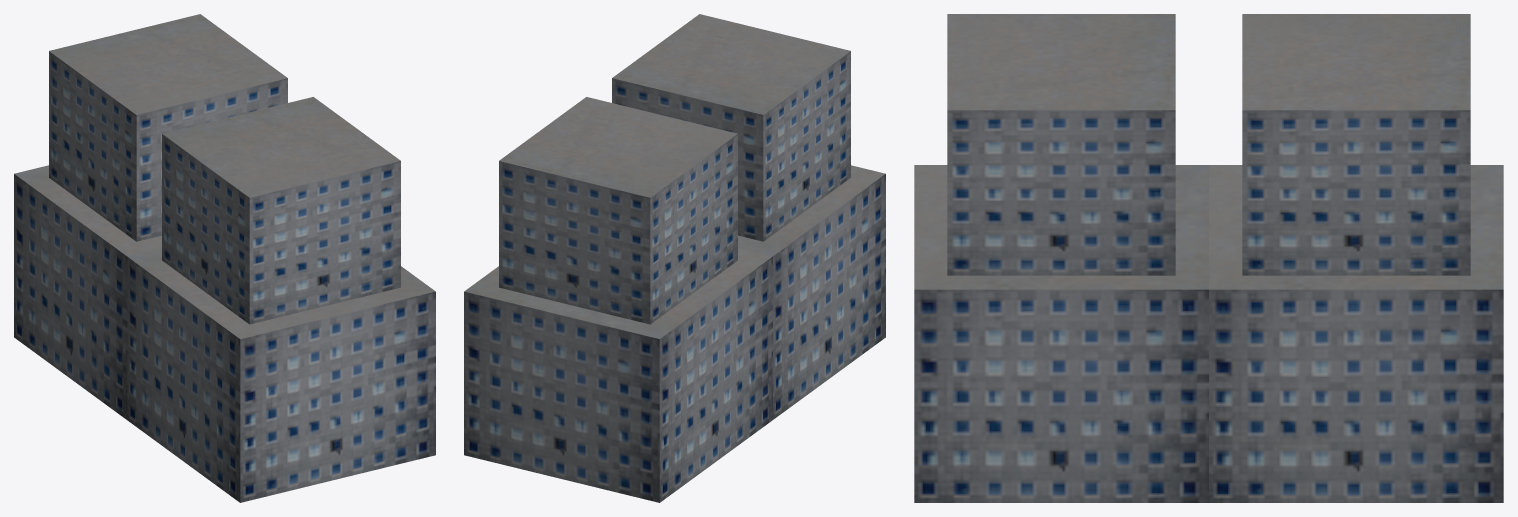
Rendered from building 11.fbx.
The picture shows the model from 3 angles, left to right: view 1: azimuth 30°, elevation 25°; view 2: azimuth 150°, elevation 25°; view 3: azimuth 270°, elevation 25°; orthographic projection. The views are drawn at different scales.
Visible parts, largest first — view 1: model_27.001; view 2: model_27.001; view 3: model_27.001.
Boxes of the visible parts, x1=… form: model_27.001: x1=14, y1=14, x2=435, y2=502; model_27.001: x1=464, y1=14, x2=885, y2=502; model_27.001: x1=914, y1=14, x2=1503, y2=502.
Bounding box in the file's own units: 718 × 1019 × 1438.
